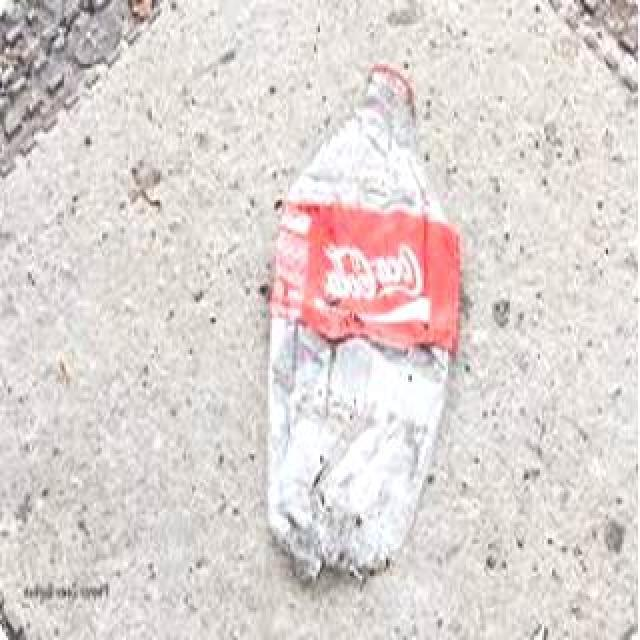Pet_Bottle: (257, 56, 471, 580)
